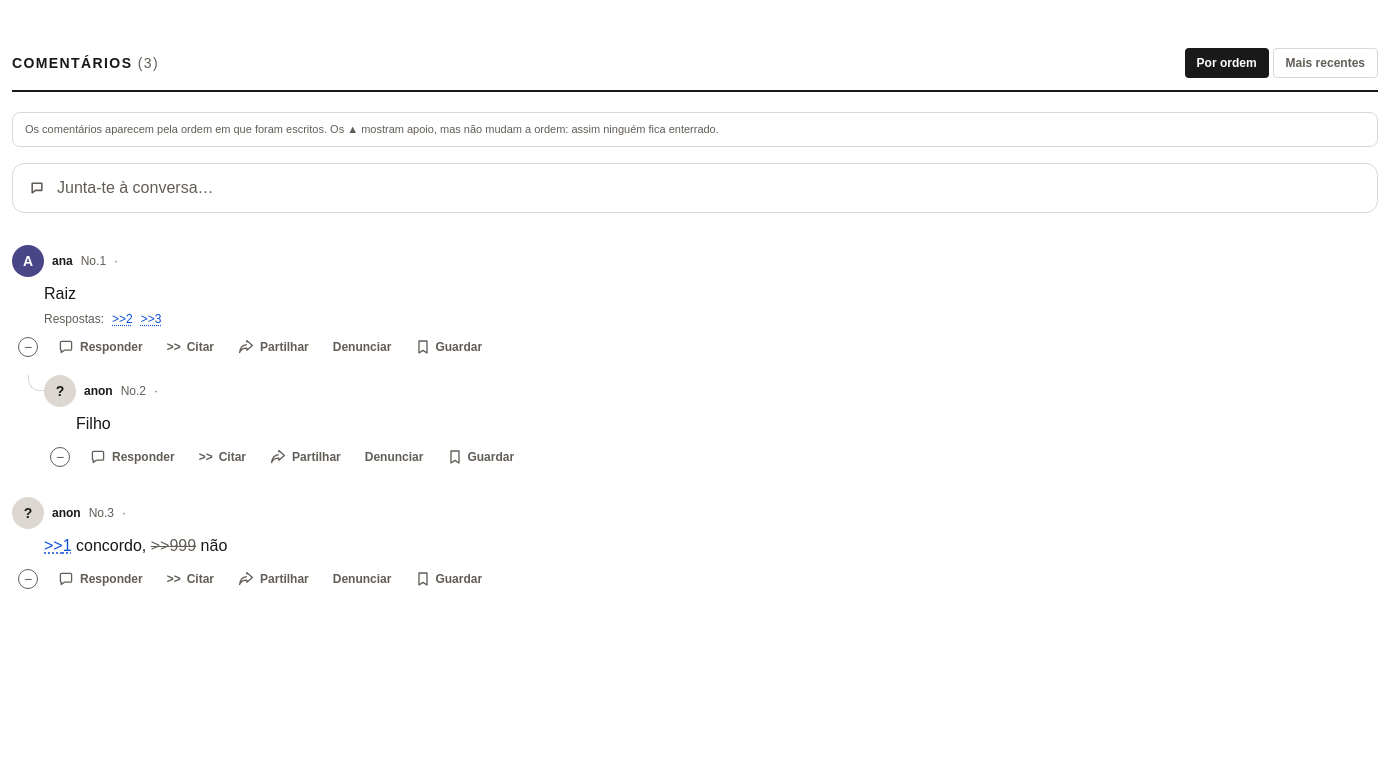
comments › turns >>123 into a link with a preview, and strikes through posts that are not here
Hover over the link ">>1" at [53, 545], box [44,536,72,554]
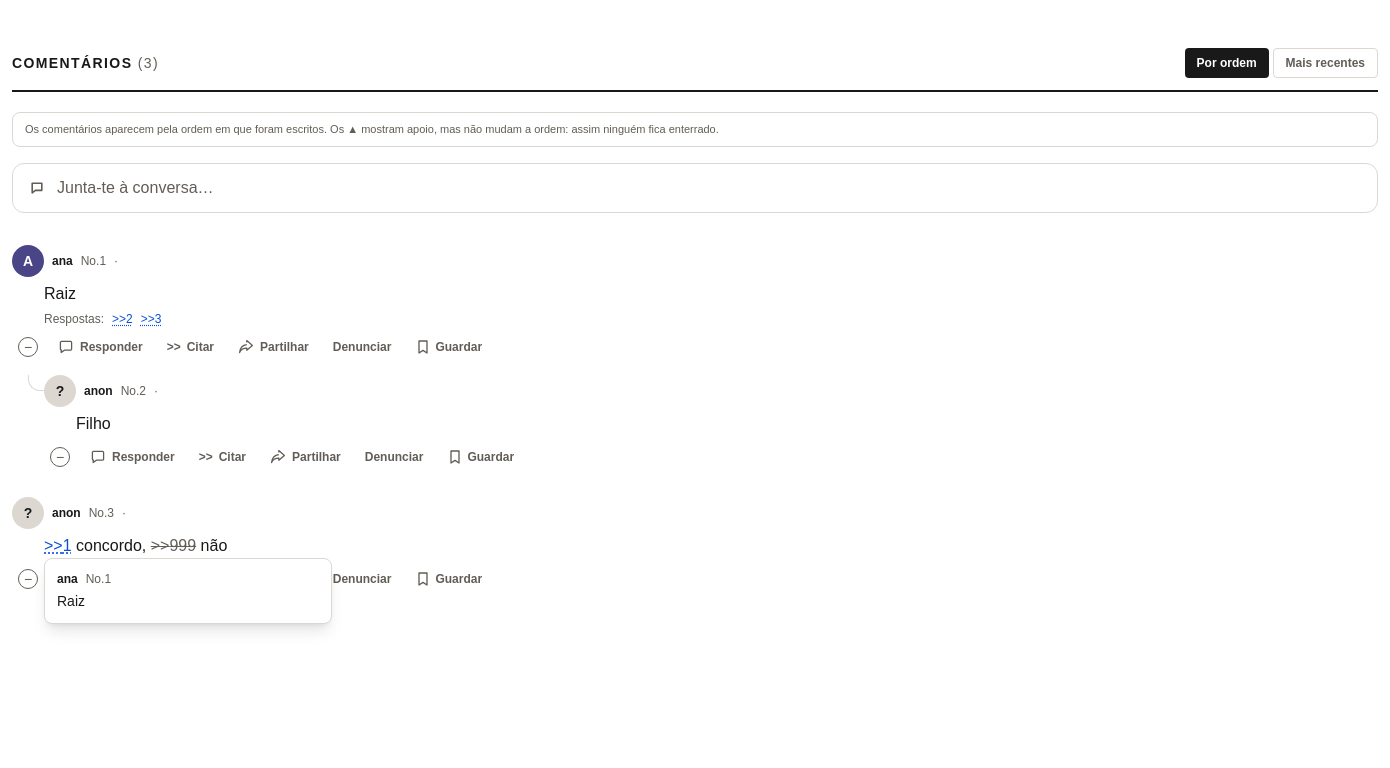
Expected: the tooltip shows "Raiz", [57,592,85,608]
